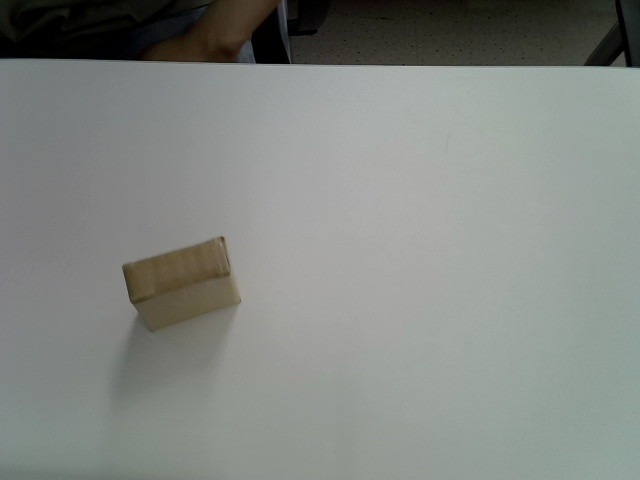normal: (121, 235, 243, 334)
